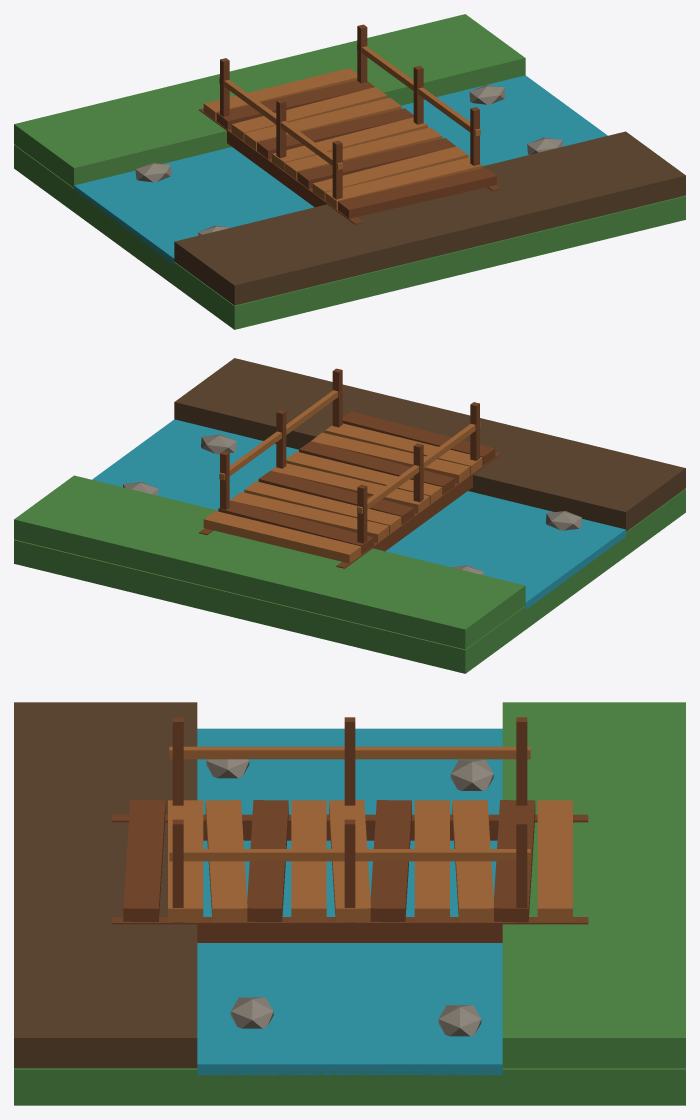
The model's file is wooden_bridge.glb.
3 views of the same model, one above another, from view 1: azimuth 30°, elevation 25°; view 2: azimuth 150°, elevation 25°; view 3: azimuth 270°, elevation 25° (orthographic). The views are drawn at different scales.
Visible parts, largest first — view 1: NearBank, FarBank, River, TerrainBase, BridgePlank, BridgePlank.002, BridgePlank.003, BridgePlank.001, BridgePlank.008, BridgePlank.004, BridgePlank.007, BridgePlank.010 (+14 smaller); view 2: FarBank, NearBank, River, TerrainBase, BridgePlank.010, BridgePlank.009, BridgePlank.008, BridgePlank.007, BridgePlank.002, BridgePlank.006, BridgePlank.003, BridgePlank.004 (+14 smaller); view 3: River, FarBank, NearBank, TerrainBase, BridgeBeam.001, BridgeRail, BridgePlank, BridgePlank.010, BridgeRail.001, BridgePlank.002, BridgePlank.003, BridgePlank.008 (+17 smaller).
Part boxes in pixels (x1=…): NearBank: x1=174, y1=131, x2=685, y2=305; FarBank: x1=14, y1=14, x2=525, y2=187; River: x1=74, y1=75, x2=607, y2=265; TerrainBase: x1=14, y1=144, x2=685, y2=329; BridgePlank: x1=338, y1=167, x2=496, y2=218; BridgePlank.002: x1=312, y1=146, x2=468, y2=200; BridgePlank.003: x1=297, y1=138, x2=455, y2=188; BridgePlank.001: x1=325, y1=157, x2=482, y2=209; BridgePlank.008: x1=231, y1=87, x2=387, y2=140; BridgePlank.004: x1=284, y1=127, x2=442, y2=179; BridgePlank.007: x1=244, y1=98, x2=401, y2=150; BridgePlank.010: x1=203, y1=68, x2=357, y2=120; FarBank: x1=14, y1=475, x2=525, y2=649; NearBank: x1=174, y1=358, x2=685, y2=531; River: x1=92, y1=419, x2=625, y2=609; TerrainBase: x1=14, y1=488, x2=685, y2=673; BridgePlank.010: x1=203, y1=511, x2=361, y2=563; BridgePlank.009: x1=218, y1=500, x2=373, y2=554; BridgePlank.008: x1=230, y1=492, x2=388, y2=542; BridgePlank.007: x1=244, y1=481, x2=401, y2=533; BridgePlank.002: x1=311, y1=432, x2=469, y2=483; BridgePlank.006: x1=258, y1=471, x2=414, y2=524; BridgePlank.003: x1=299, y1=441, x2=454, y2=494; BridgePlank.004: x1=286, y1=451, x2=442, y2=504; River: x1=197, y1=728, x2=502, y2=1075; FarBank: x1=502, y1=702, x2=685, y2=1068; NearBank: x1=14, y1=702, x2=197, y2=1068; TerrainBase: x1=14, y1=1068, x2=685, y2=1105; BridgeBeam.001: x1=111, y1=917, x2=588, y2=942; BridgeRail: x1=169, y1=746, x2=530, y2=759; BridgePlank: x1=123, y1=800, x2=165, y2=921; BridgePlank.010: x1=537, y1=800, x2=572, y2=921; BridgeRail.001: x1=169, y1=849, x2=530, y2=861; BridgePlank.002: x1=205, y1=800, x2=247, y2=921; BridgePlank.003: x1=247, y1=800, x2=288, y2=921; BridgePlank.008: x1=452, y1=800, x2=494, y2=921.
Bounding box in the file's own units: 13 × 3.02 × 11.
